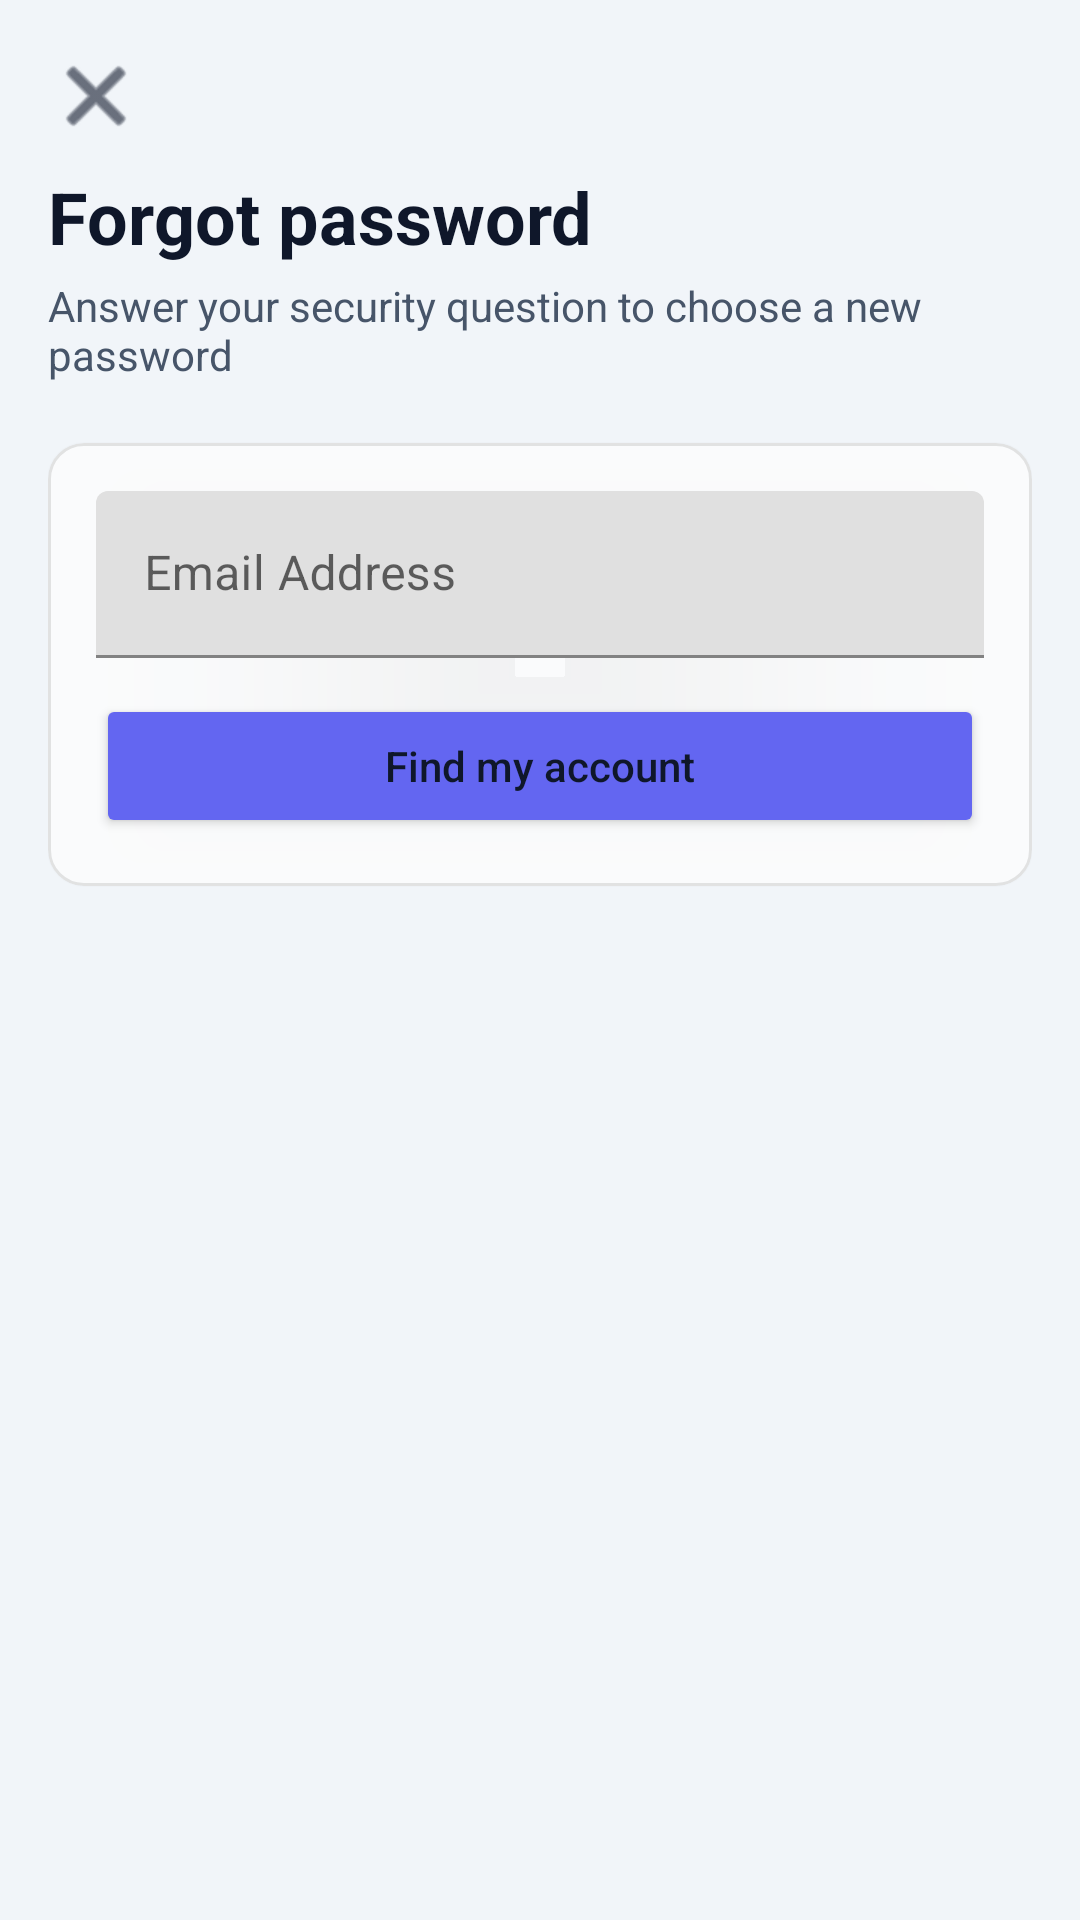

Icon click points for this 1080px x 1920px phone screenshot, format (x=x, y=y):
Back: (x=96, y=96)
